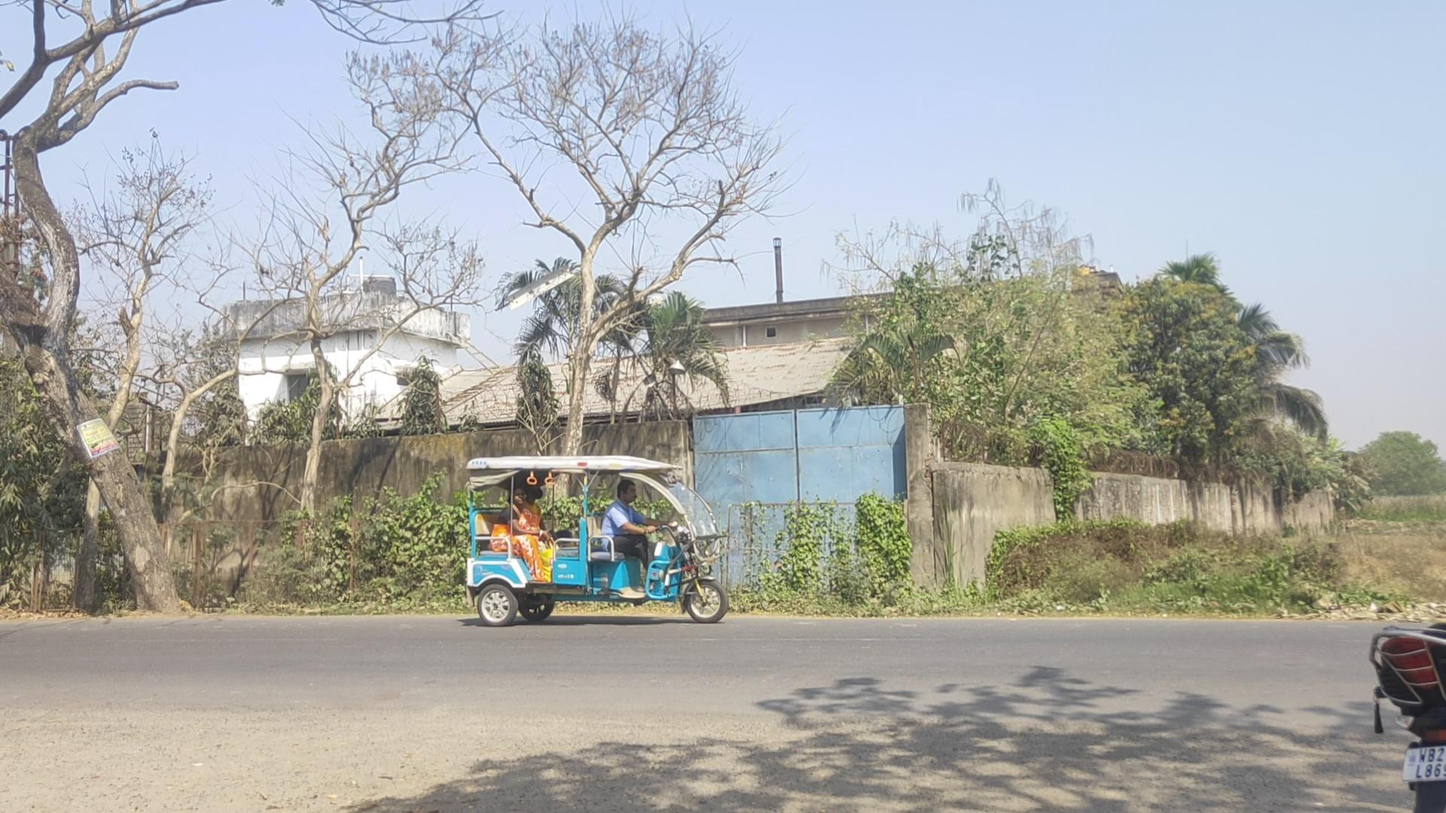Auto: (464, 455, 727, 627)
